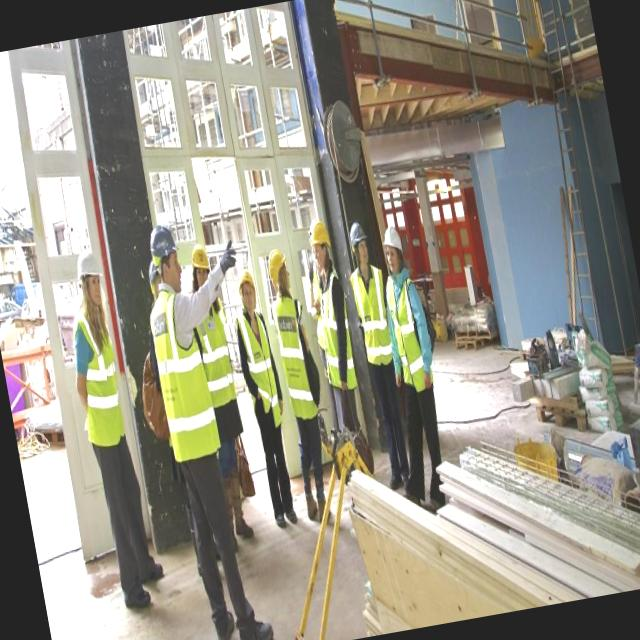helmet: (144, 214, 188, 290), (70, 239, 106, 290), (263, 247, 294, 296), (376, 218, 406, 268), (304, 210, 333, 258), (232, 264, 258, 310), (347, 216, 372, 260), (188, 247, 216, 284)
vest: (144, 292, 222, 478), (62, 304, 134, 467), (378, 262, 437, 410), (304, 257, 361, 402), (189, 272, 243, 421), (266, 286, 322, 423), (233, 302, 286, 436), (347, 262, 395, 383)
